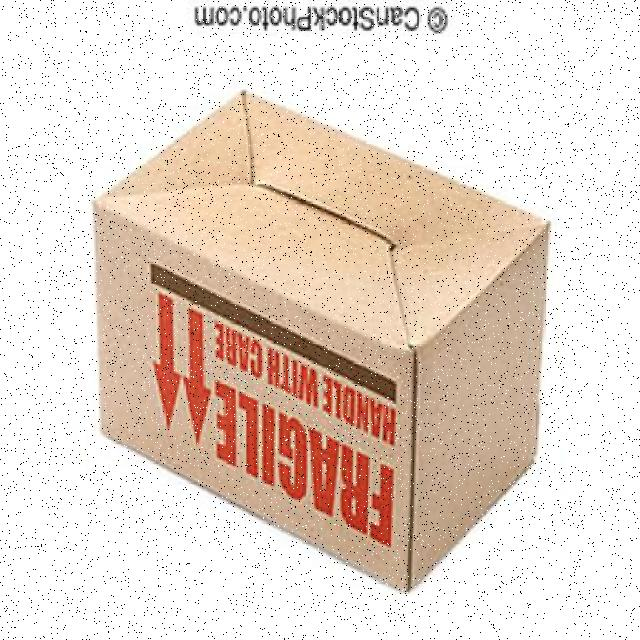normal: (88, 88, 557, 595)
